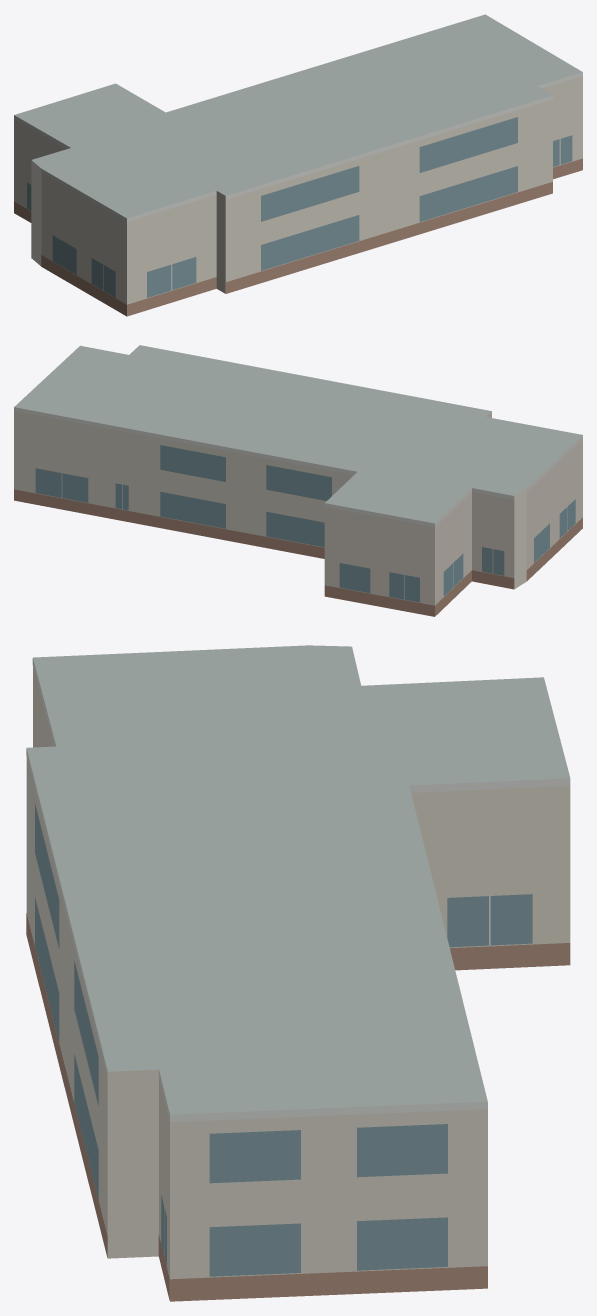
The model's file is survey-upis-32497673.glb.
3 views of the same model, one above another, from view 1: azimuth 30°, elevation 25°; view 2: azimuth 150°, elevation 25°; view 3: azimuth 270°, elevation 25° (orthographic). The views are drawn at different scales.
Parts seen in each view (by area): view 1: survey-upis-32497673.tmp; view 2: survey-upis-32497673.tmp; view 3: survey-upis-32497673.tmp.
Boxes of the visible parts, bbox=[...] form: survey-upis-32497673.tmp: bbox=[14, 14, 582, 316]; survey-upis-32497673.tmp: bbox=[14, 345, 582, 616]; survey-upis-32497673.tmp: bbox=[26, 645, 570, 1301].
Bounding box in the file's own units: 32.87 × 6.1 × 16.1.
